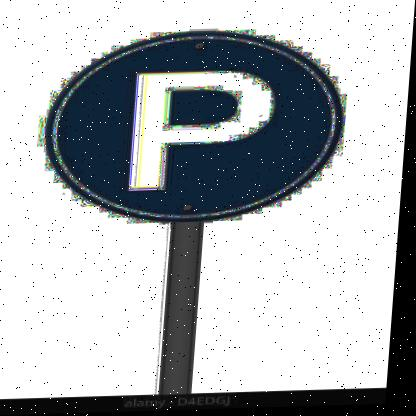Parking: (31, 23, 369, 234)
